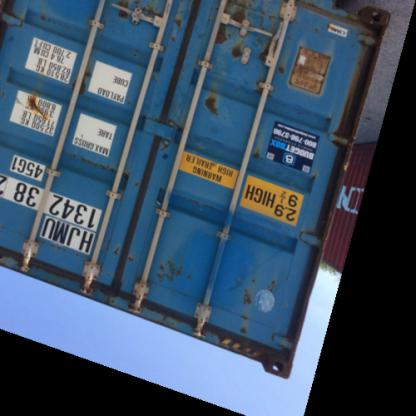Damage: (233, 270, 281, 340), (213, 11, 254, 69), (149, 258, 200, 290), (18, 84, 53, 127), (200, 81, 230, 129), (262, 37, 288, 88), (246, 138, 273, 171)
